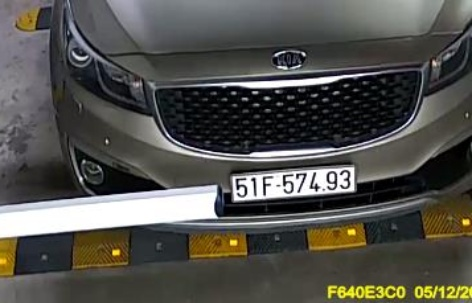plate: (227, 163, 359, 201)
